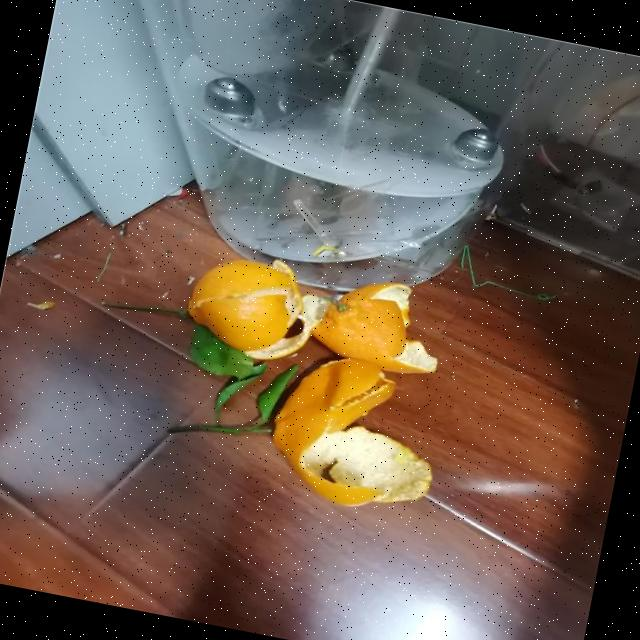orange-peel: (248, 332, 448, 550), (294, 246, 468, 388), (176, 230, 322, 370)
